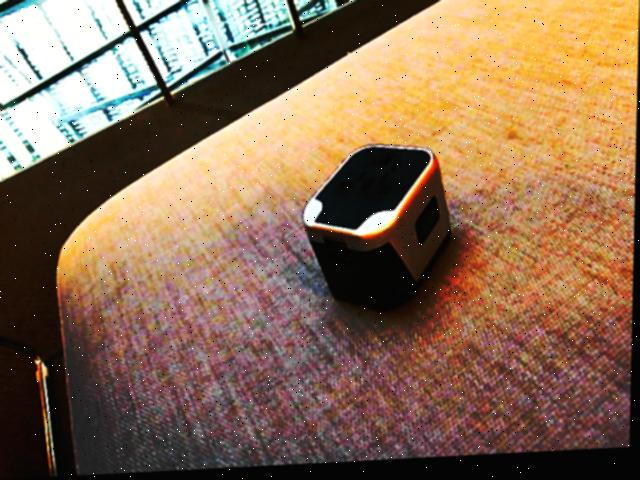adapter: (302, 144, 454, 318)
